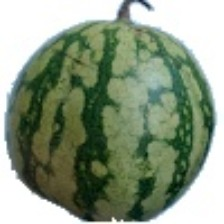watermelon: (29, 13, 185, 182)
